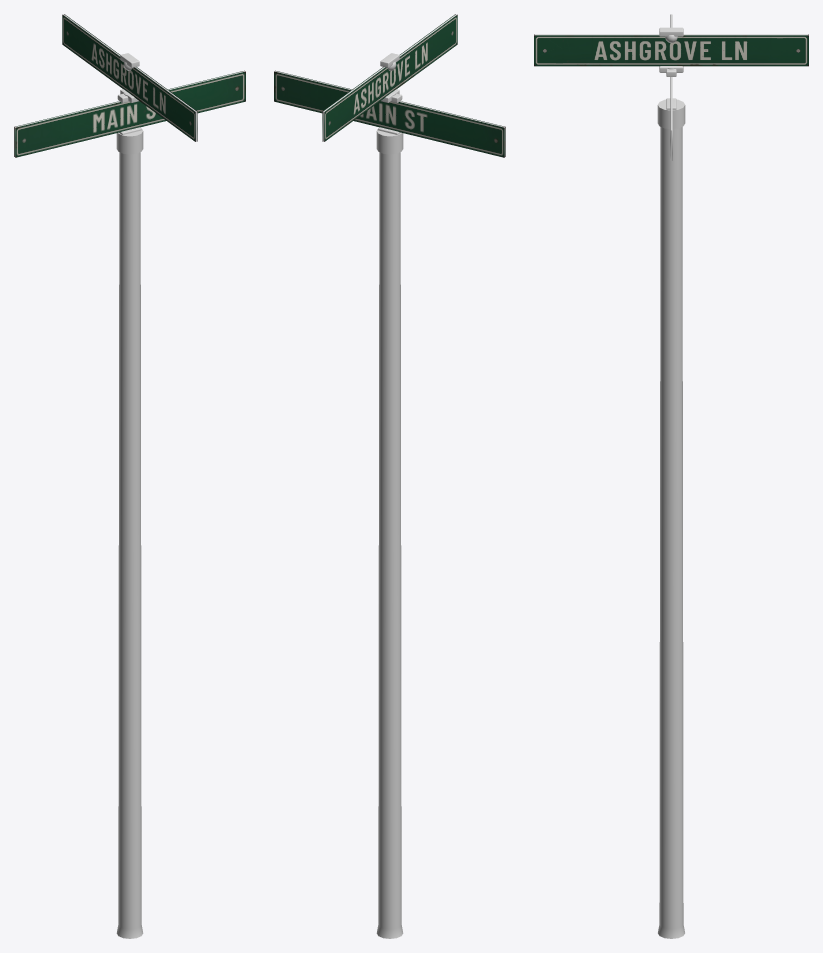
Rendered from SM_Sign_Street_Ashgrove.fbx.
3 views of the same model, side by side, from view 1: azimuth 30°, elevation 25°; view 2: azimuth 150°, elevation 25°; view 3: azimuth 270°, elevation 25° (orthographic). The views are drawn at different scales.
Parts seen in each view (by area): view 1: SM_Sign_Street_Ashgrove; view 2: SM_Sign_Street_Ashgrove; view 3: SM_Sign_Street_Ashgrove.
Part boxes in pixels (x1,y1,x2,y2): SM_Sign_Street_Ashgrove: [14, 14, 245, 938]; SM_Sign_Street_Ashgrove: [274, 14, 505, 938]; SM_Sign_Street_Ashgrove: [534, 14, 808, 938].
Bounding box in the file's own units: 80 × 290 × 80.
